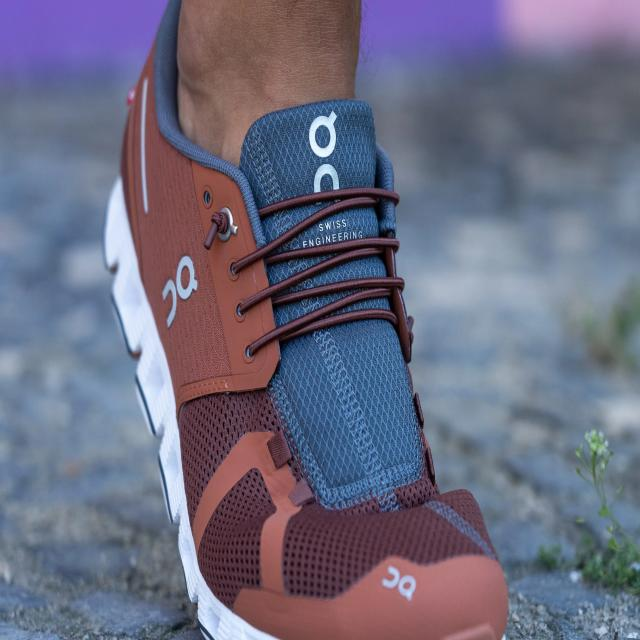OC_logo: (144, 242, 225, 356), (372, 558, 436, 616)
